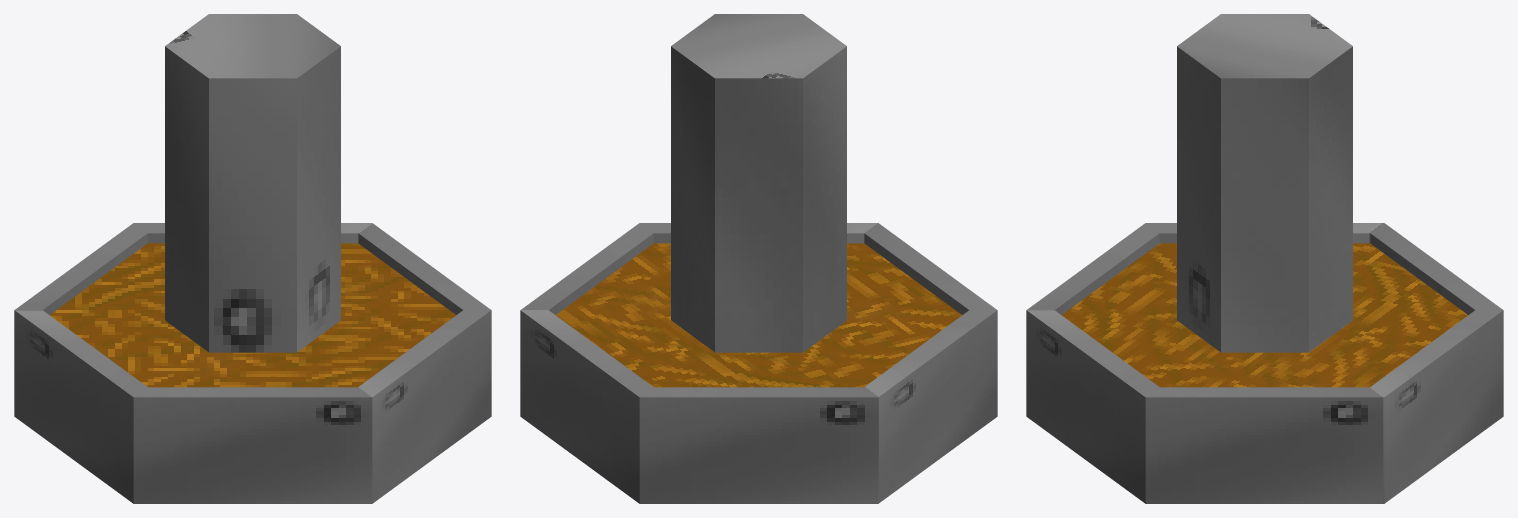
Rendered from comedouro.fbx.
3 renders of one model, left to right at view 1: azimuth 30°, elevation 25°; view 2: azimuth 150°, elevation 25°; view 3: azimuth 270°, elevation 25°, orthographic.
Parts seen in each view (by area): view 1: comedouro; view 2: comedouro; view 3: comedouro.
Boxes of the visible parts, x1=… form: comedouro: x1=14, y1=14, x2=491, y2=503; comedouro: x1=520, y1=14, x2=997, y2=503; comedouro: x1=1026, y1=14, x2=1503, y2=503.
Size of the model in its own units: 552 by 546 by 637.
